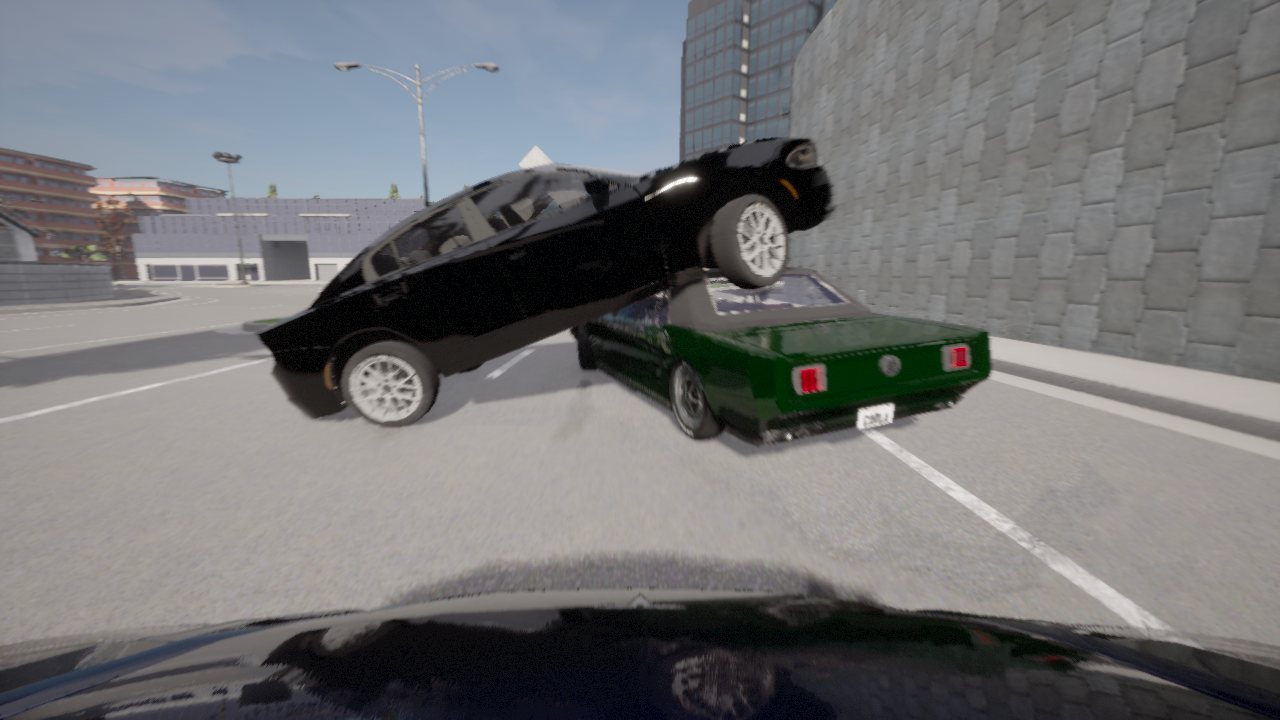cyclist: (0, 588, 1279, 719), (255, 138, 834, 426), (570, 268, 991, 445)
